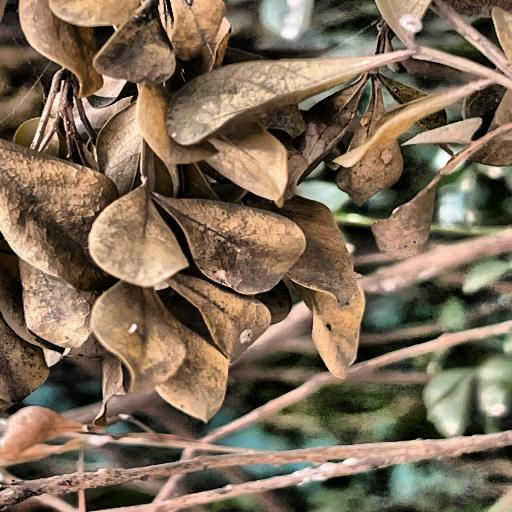la heo: (12, 34, 422, 379)
